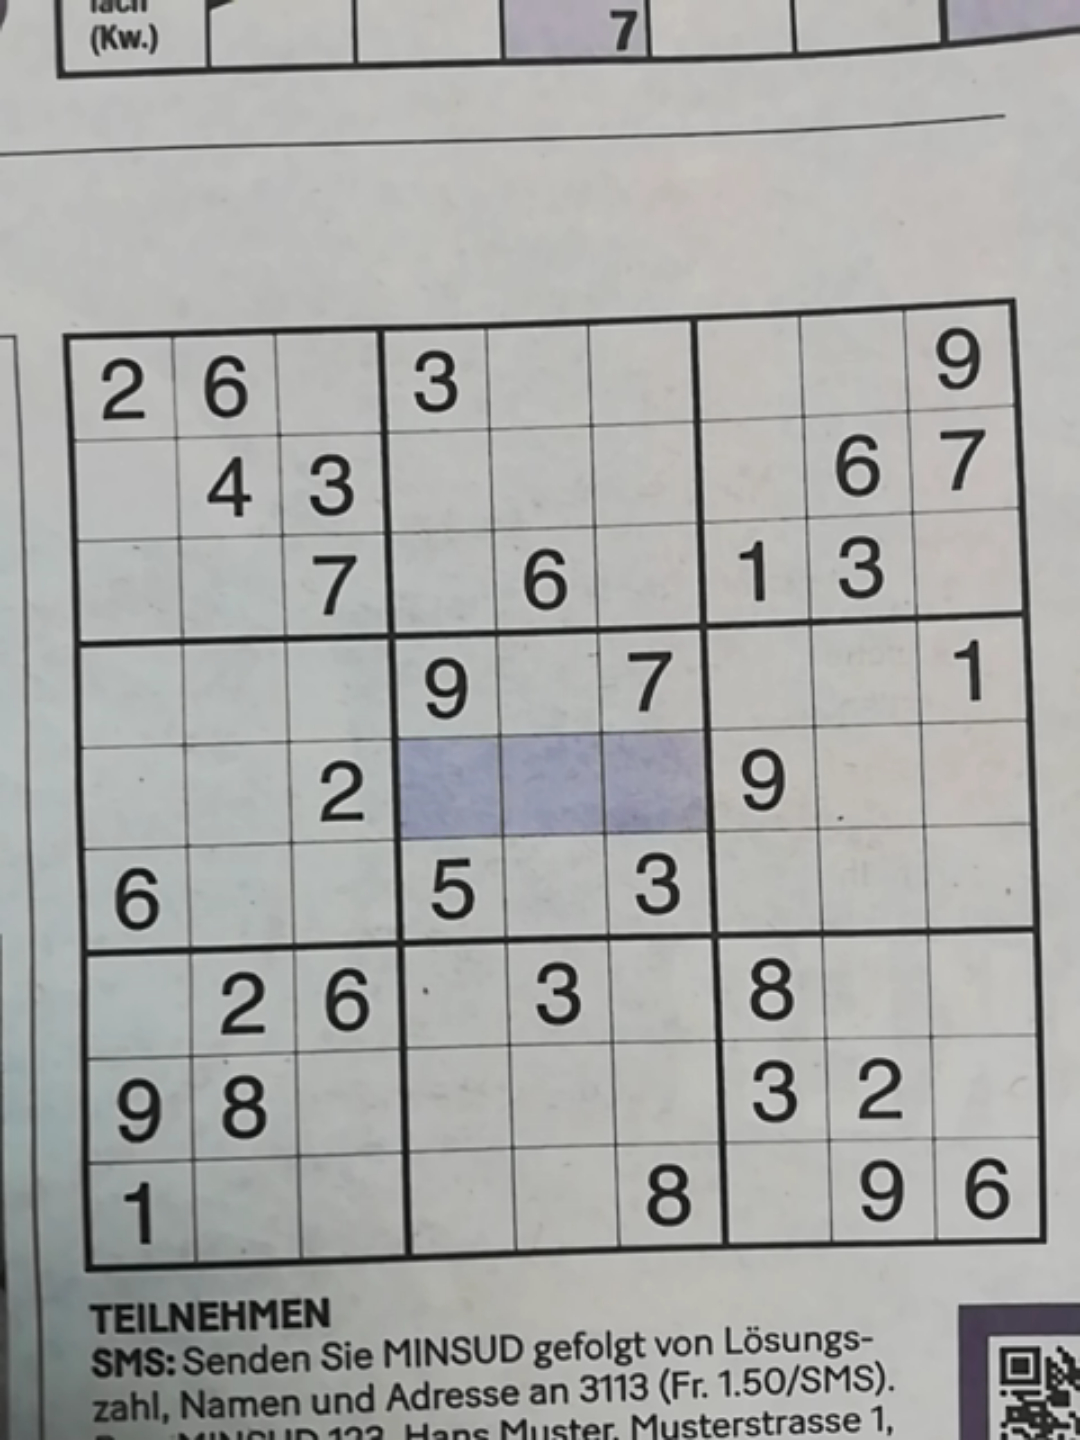sudoku: (60, 296, 1050, 1261)
